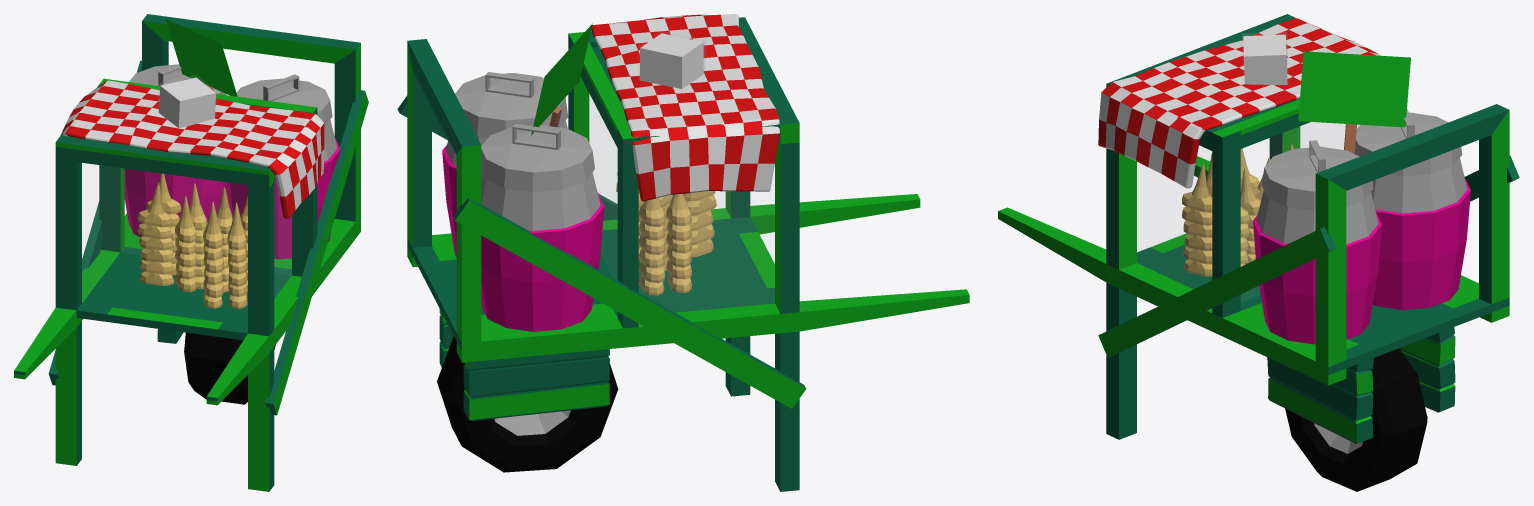
File: NievesCarro.fbx
The picture shows the model from 3 angles, left to right: view 1: azimuth 30°, elevation 25°; view 2: azimuth 150°, elevation 25°; view 3: azimuth 270°, elevation 25°; orthographic projection. The views are drawn at different scales.
Parts seen in each view (by area): view 1: Object_65, Object_58, Object_57, Object_64, Object_59, Object_63, Object_62, Object_61, Object_66; view 2: Object_58, Object_65, Object_62, Object_57, Object_59, Object_63, Object_61, Object_64, Object_66; view 3: Object_58, Object_65, Object_63, Object_62, Object_57, Object_59, Object_61, Object_64, Object_66.
Boxes of the visible parts, bbox=[...] form: Object_65: bbox=[14, 14, 364, 491]; Object_58: bbox=[14, 19, 368, 491]; Object_57: bbox=[60, 77, 324, 209]; Object_64: bbox=[137, 173, 247, 308]; Object_59: bbox=[62, 81, 324, 218]; Object_63: bbox=[124, 137, 340, 259]; Object_62: bbox=[129, 64, 337, 161]; Object_61: bbox=[184, 332, 275, 404]; Object_66: bbox=[158, 75, 291, 274]; Object_58: bbox=[407, 23, 969, 419]; Object_65: bbox=[397, 17, 805, 491]; Object_62: bbox=[446, 72, 600, 435]; Object_57: bbox=[591, 14, 779, 198]; Object_59: bbox=[591, 14, 779, 201]; Object_63: bbox=[442, 145, 604, 331]; Object_61: bbox=[437, 336, 618, 472]; Object_64: bbox=[616, 173, 716, 295]; Object_66: bbox=[590, 30, 730, 229]; Object_58: bbox=[998, 51, 1509, 443]; Object_65: bbox=[1106, 14, 1519, 443]; Object_63: bbox=[1253, 180, 1470, 344]; Object_62: bbox=[1256, 109, 1467, 453]; Object_57: bbox=[1099, 22, 1380, 188]; Object_59: bbox=[1098, 18, 1377, 181]; Object_61: bbox=[1285, 348, 1427, 491]; Object_64: bbox=[1182, 143, 1293, 276]; Object_66: bbox=[1242, 32, 1358, 152].
Bounding box in the file's own units: 156 × 131 × 151.
